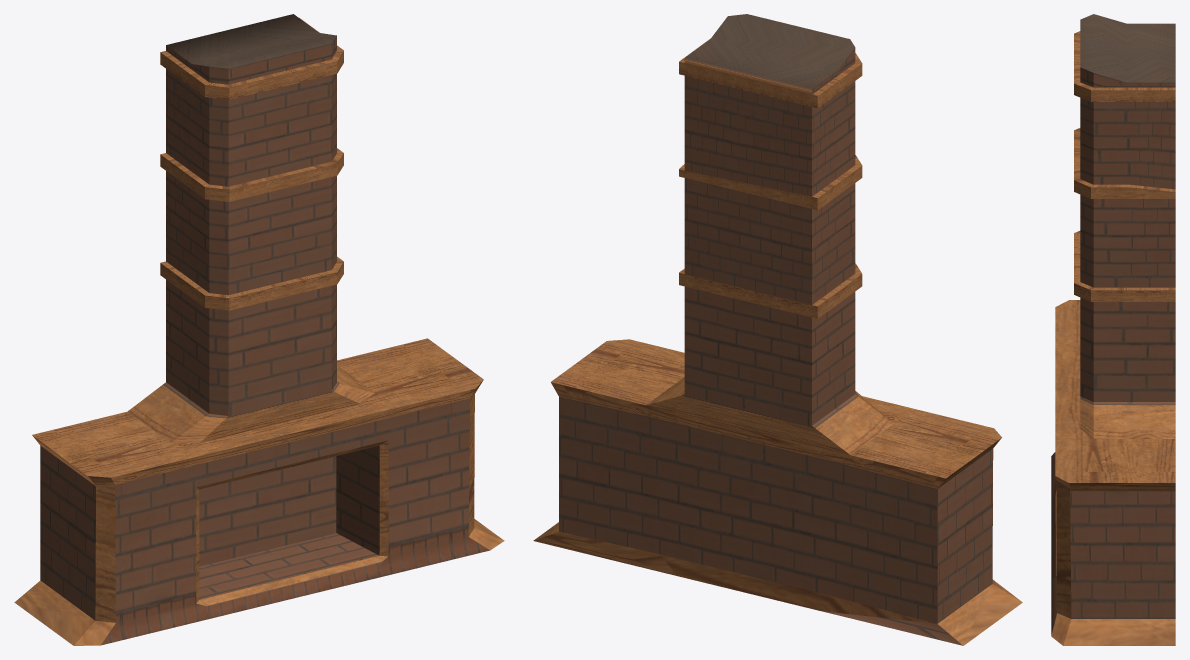
The model's file is Fireplace_Art.fbx.
3 views of the same model, side by side, from view 1: azimuth 30°, elevation 25°; view 2: azimuth 150°, elevation 25°; view 3: azimuth 270°, elevation 25° (orthographic). The views are drawn at different scales.
Parts seen in each view (by area): view 1: Fireplace_Art; view 2: Fireplace_Art; view 3: Fireplace_Art.
Part boxes in pixels (box(x1,y1,x2,y2)): Fireplace_Art: box(14, 14, 504, 645); Fireplace_Art: box(533, 14, 1022, 645); Fireplace_Art: box(1051, 14, 1175, 645).
Bounding box in the file's own units: 6.55 × 7.7 × 1.73.
